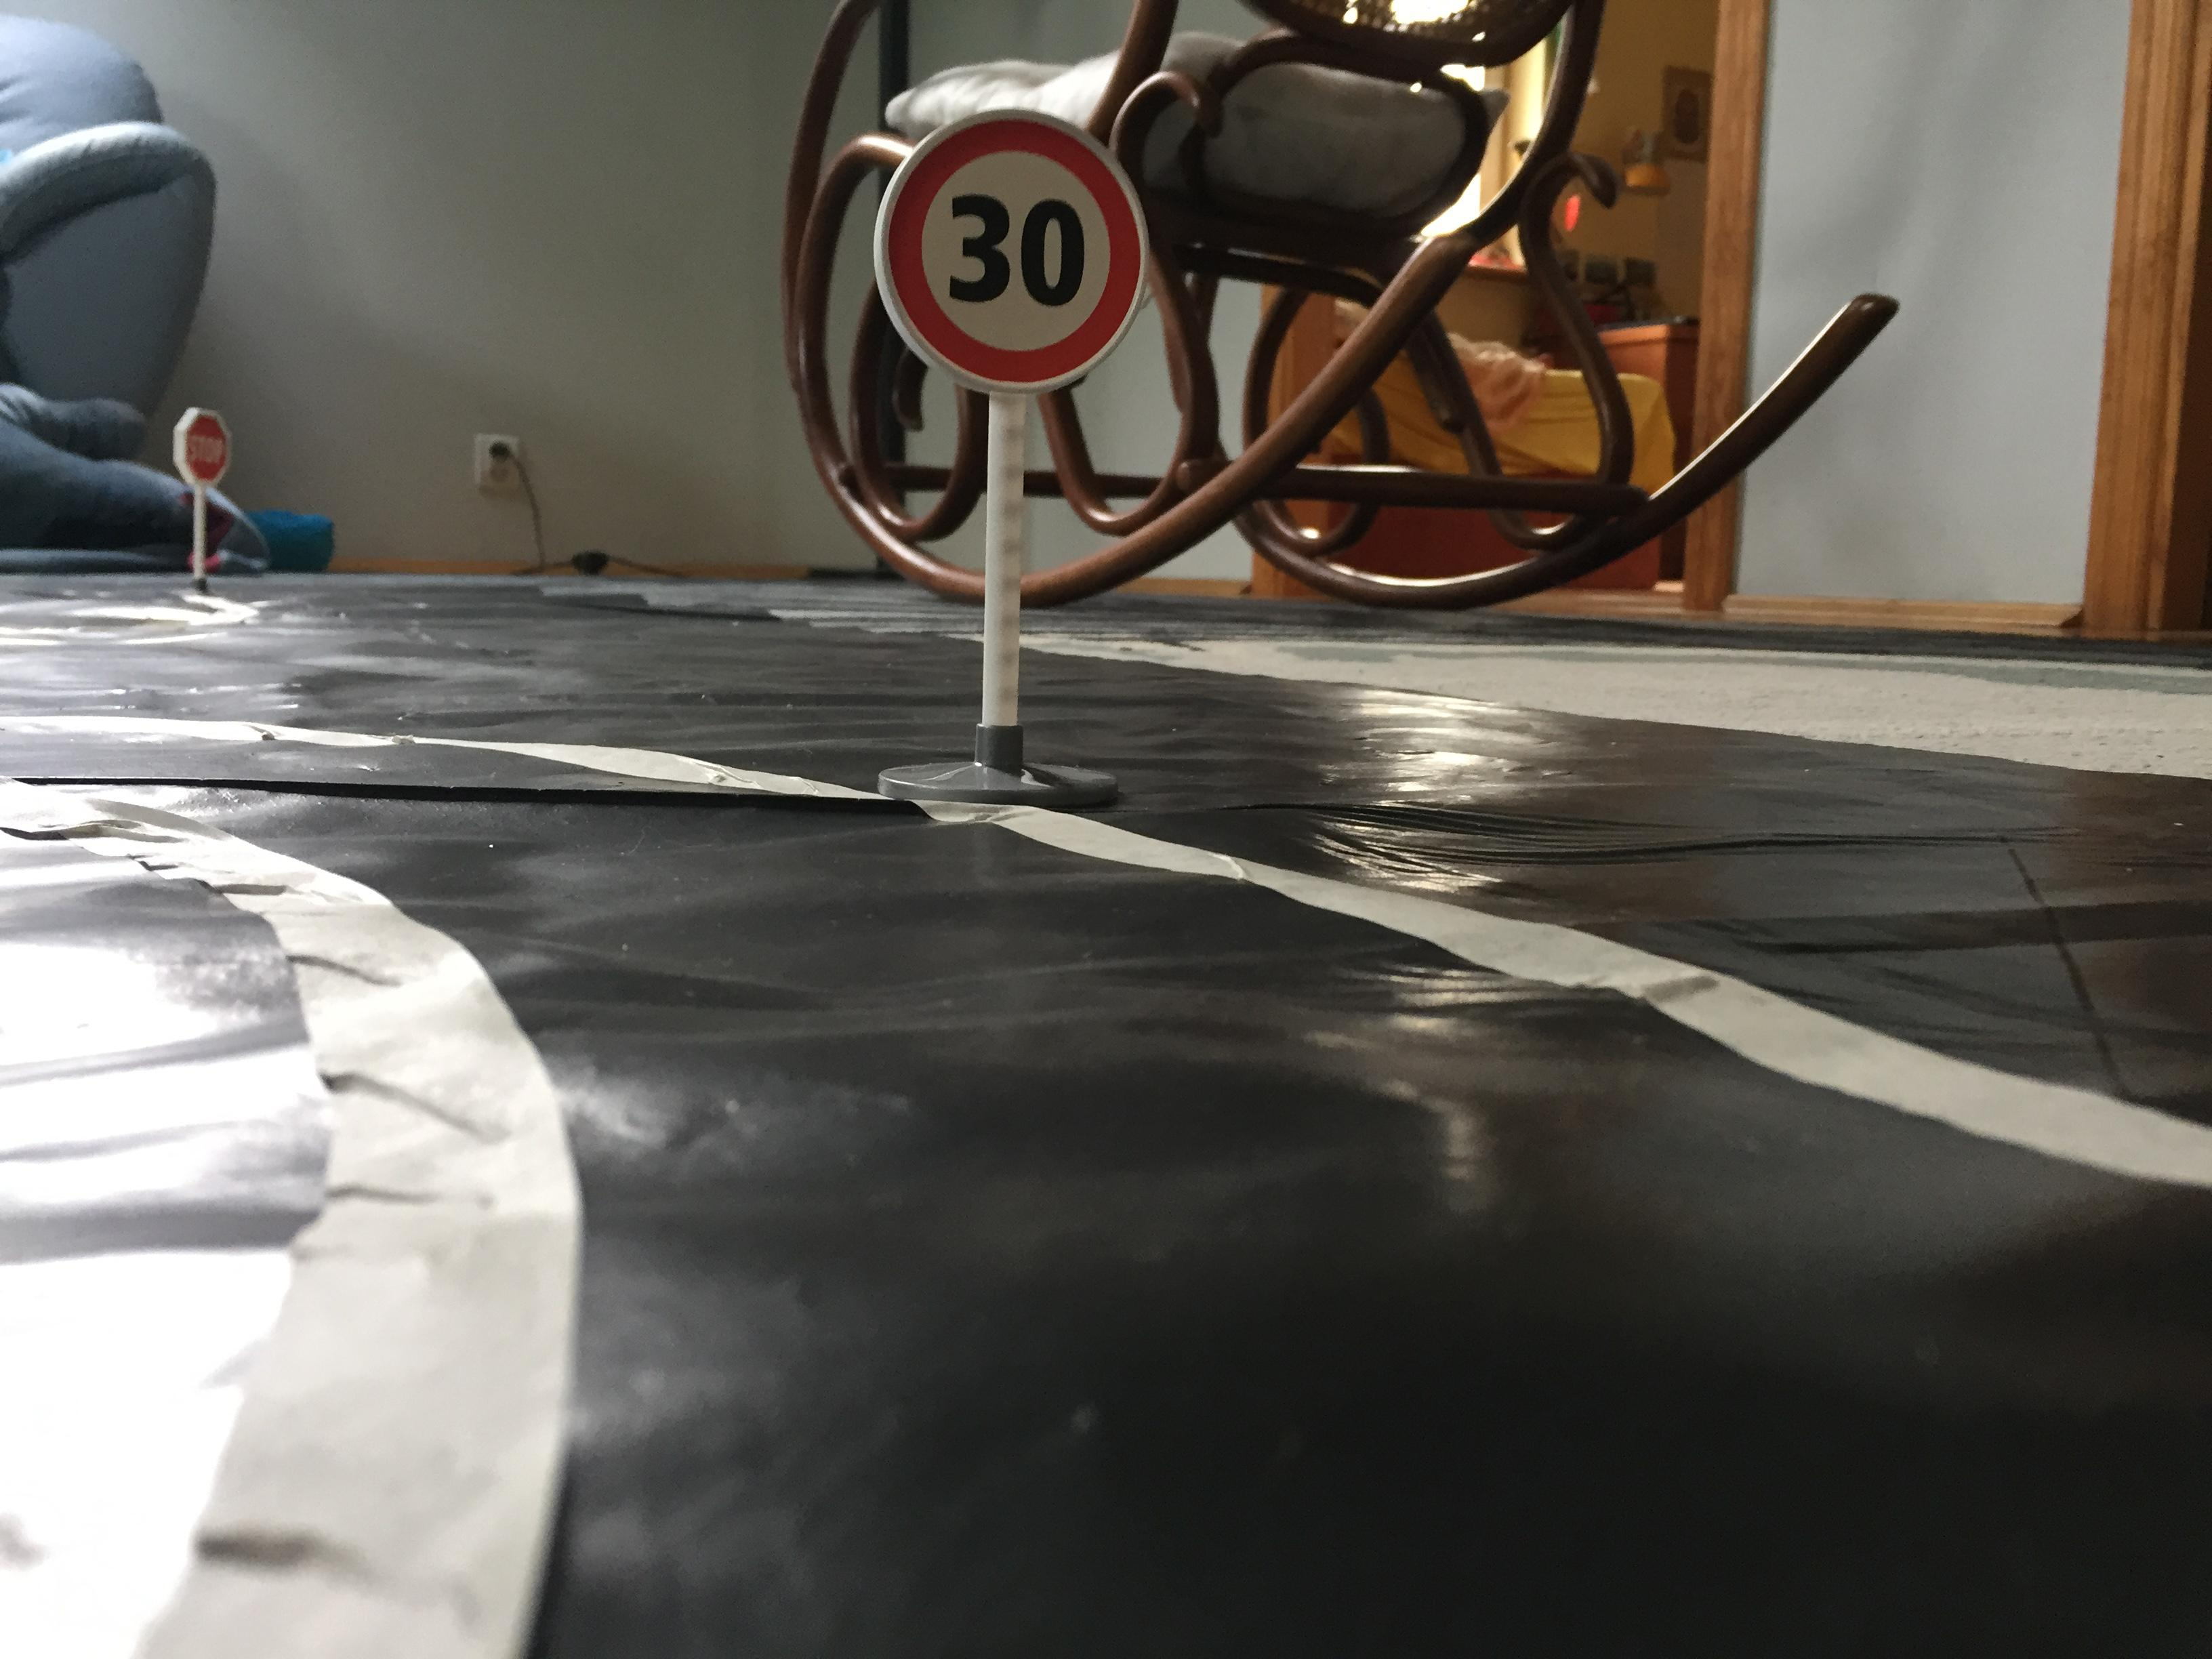speed: (862, 101, 1163, 399)
